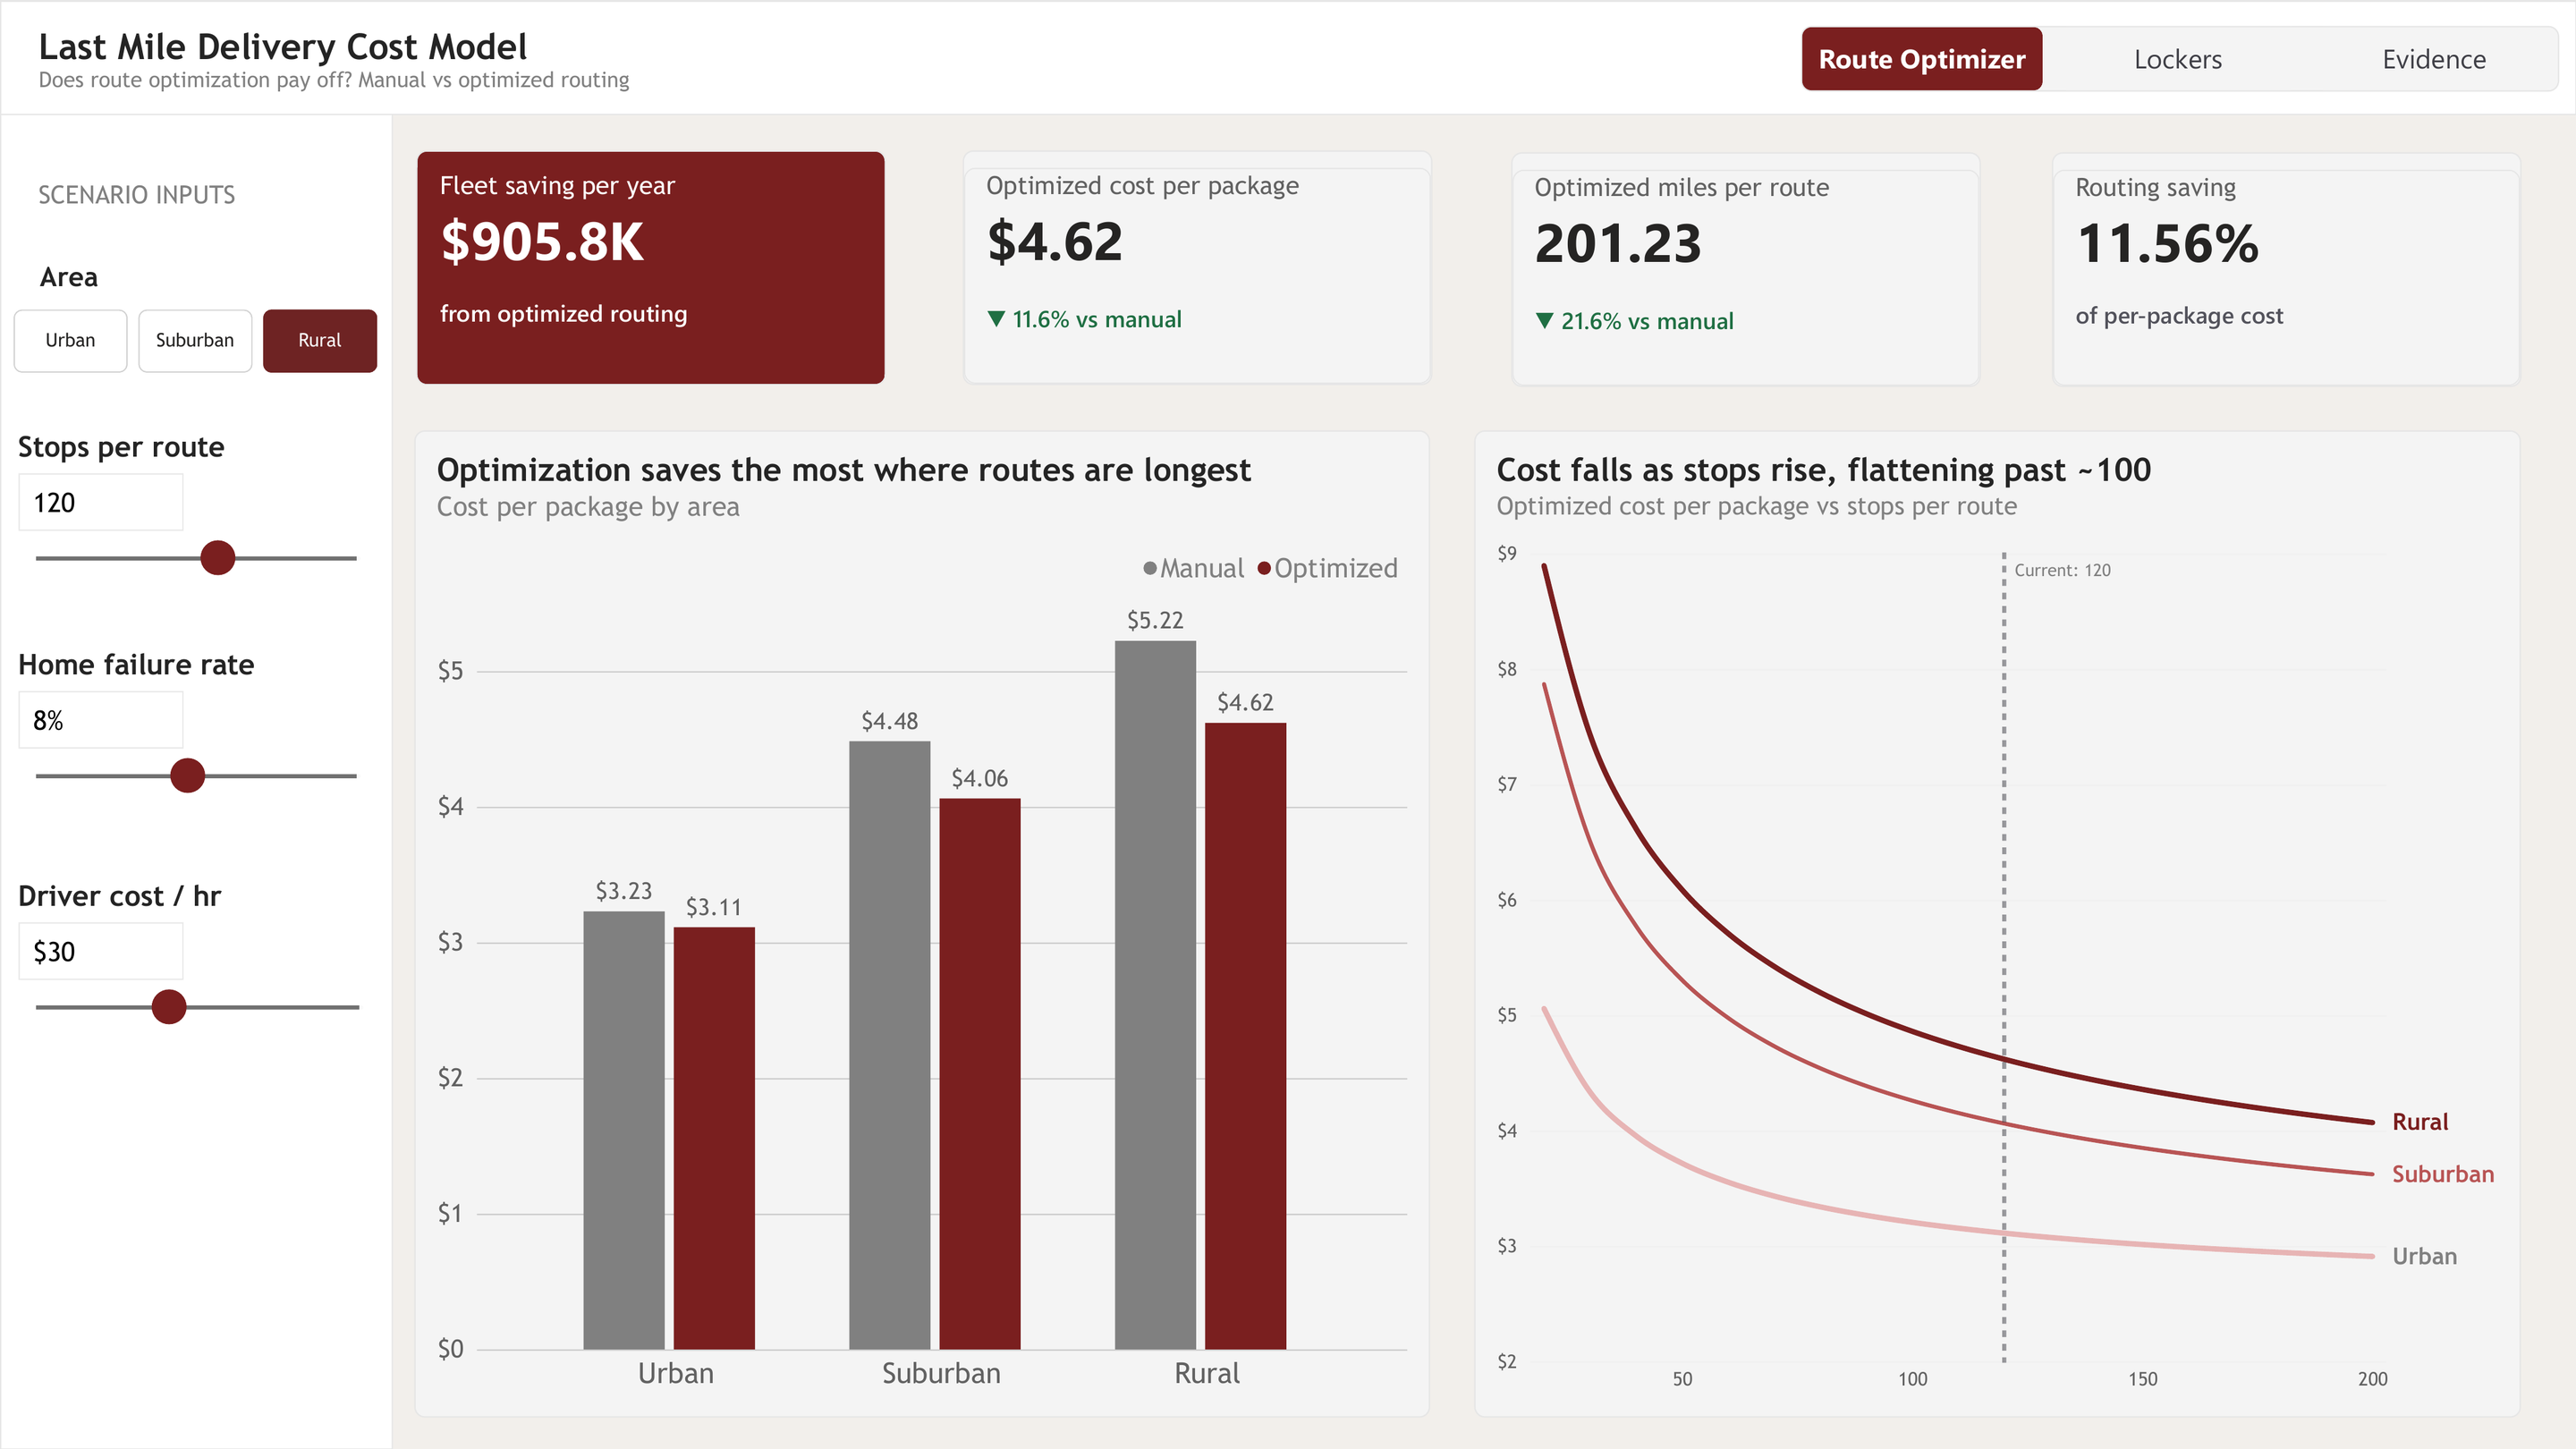

The dashboard page shown, as its layout file describes it:
{"tool":"powerbi","page":{"name":"Route Optimizer","canvas":[1920,1080],"ordinal":0},"visuals":[{"type":"shape","box":[0,69.2,292.9,1010.7],"z":0},{"type":"shape","box":[0,0,1920,85.3],"z":1000},{"type":"slicer","fields":{"Values":["Stops per Route.Stops per Route"]},"box":[5.7,320.6,278.9,140.4],"z":2000},{"type":"slicer","fields":{"Values":["Home Failure Rate.Home Failure Rate"]},"box":[5.7,481.9,278.9,157.5],"z":3000},{"type":"slicer","fields":{"Values":["Driver Cost.Driver Cost"]},"box":[5.7,654.5,280.8,142.3],"z":4000},{"type":"cardVisual","fields":{"Data":["_Measures.Routing Saving %"]},"box":[1528.5,113.7,350,175],"z":5000},{"type":"cardVisual","fields":{"Data":["_Measures.Fleet Saving per Year"]},"box":[310.6,111.8,350,175.4],"z":6000},{"type":"clusteredColumnChart","title":"Optimization saves the most where routes are longest","fields":{"Category":["AreaTypes.Area"],"Y":["_Measures.Cost per Package Manual","_Measures.Cost per Package Optimized"]},"box":[309.2,320.6,757,736.1],"z":7000},{"type":"lineChart","title":"Cost falls as stops rise, flattening past ~100","fields":{"Category":["Stops Axis.Value"],"Series":["AreaTypes.Area"],"Y":["_Measures.Cost at Stops Axis"]},"box":[1098.5,320.6,779.8,736.1],"z":8000},{"type":"pageNavigator","box":[1341.3,19,565.4,49.3],"z":9000},{"type":"textbox","box":[29.4,19.1,776,66.3],"z":10000},{"type":"cardVisual","fields":{"Data":["_Measures.Cost per Package Optimized"]},"box":[717.8,111.8,350,175],"z":11000},{"type":"cardVisual","fields":{"Data":["_Measures.Optimized Miles"]},"box":[1125.5,113.7,350,175],"z":12000},{"type":"textbox","box":[28.5,132.8,235,38.6],"z":13000},{"type":"advancedSlicerVisual","title":"Area","fields":{"Values":["AreaTypes.Area"]},"box":[9.7,191.5,272,86.9],"z":14000}]}

Visuals, with their boxes in screenshot pixels (x1, y1, x2, y2), scaled from the page's 1920x1080 canvas onto the 2576x1449 screenshot:
shape: (0,93,393,1448)
shape: (0,0,2575,114)
slicer - Stops per Route.Stops per Route: (8,430,382,619)
slicer - Home Failure Rate.Home Failure Rate: (8,647,382,858)
slicer - Driver Cost.Driver Cost: (8,878,385,1069)
cardVisual - _Measures.Routing Saving %: (2051,153,2521,387)
cardVisual - _Measures.Fleet Saving per Year: (417,150,886,386)
"Optimization saves the most where routes are longest" clusteredColumnChart: (415,430,1430,1418)
"Cost falls as stops rise, flattening past ~100" lineChart: (1474,430,2520,1418)
pageNavigator: (1800,25,2558,91)
textbox: (39,26,1080,114)
cardVisual - _Measures.Cost per Package Optimized: (963,150,1433,385)
cardVisual - _Measures.Optimized Miles: (1510,153,1979,387)
textbox: (38,178,353,230)
"Area" advancedSlicerVisual: (13,257,378,374)
